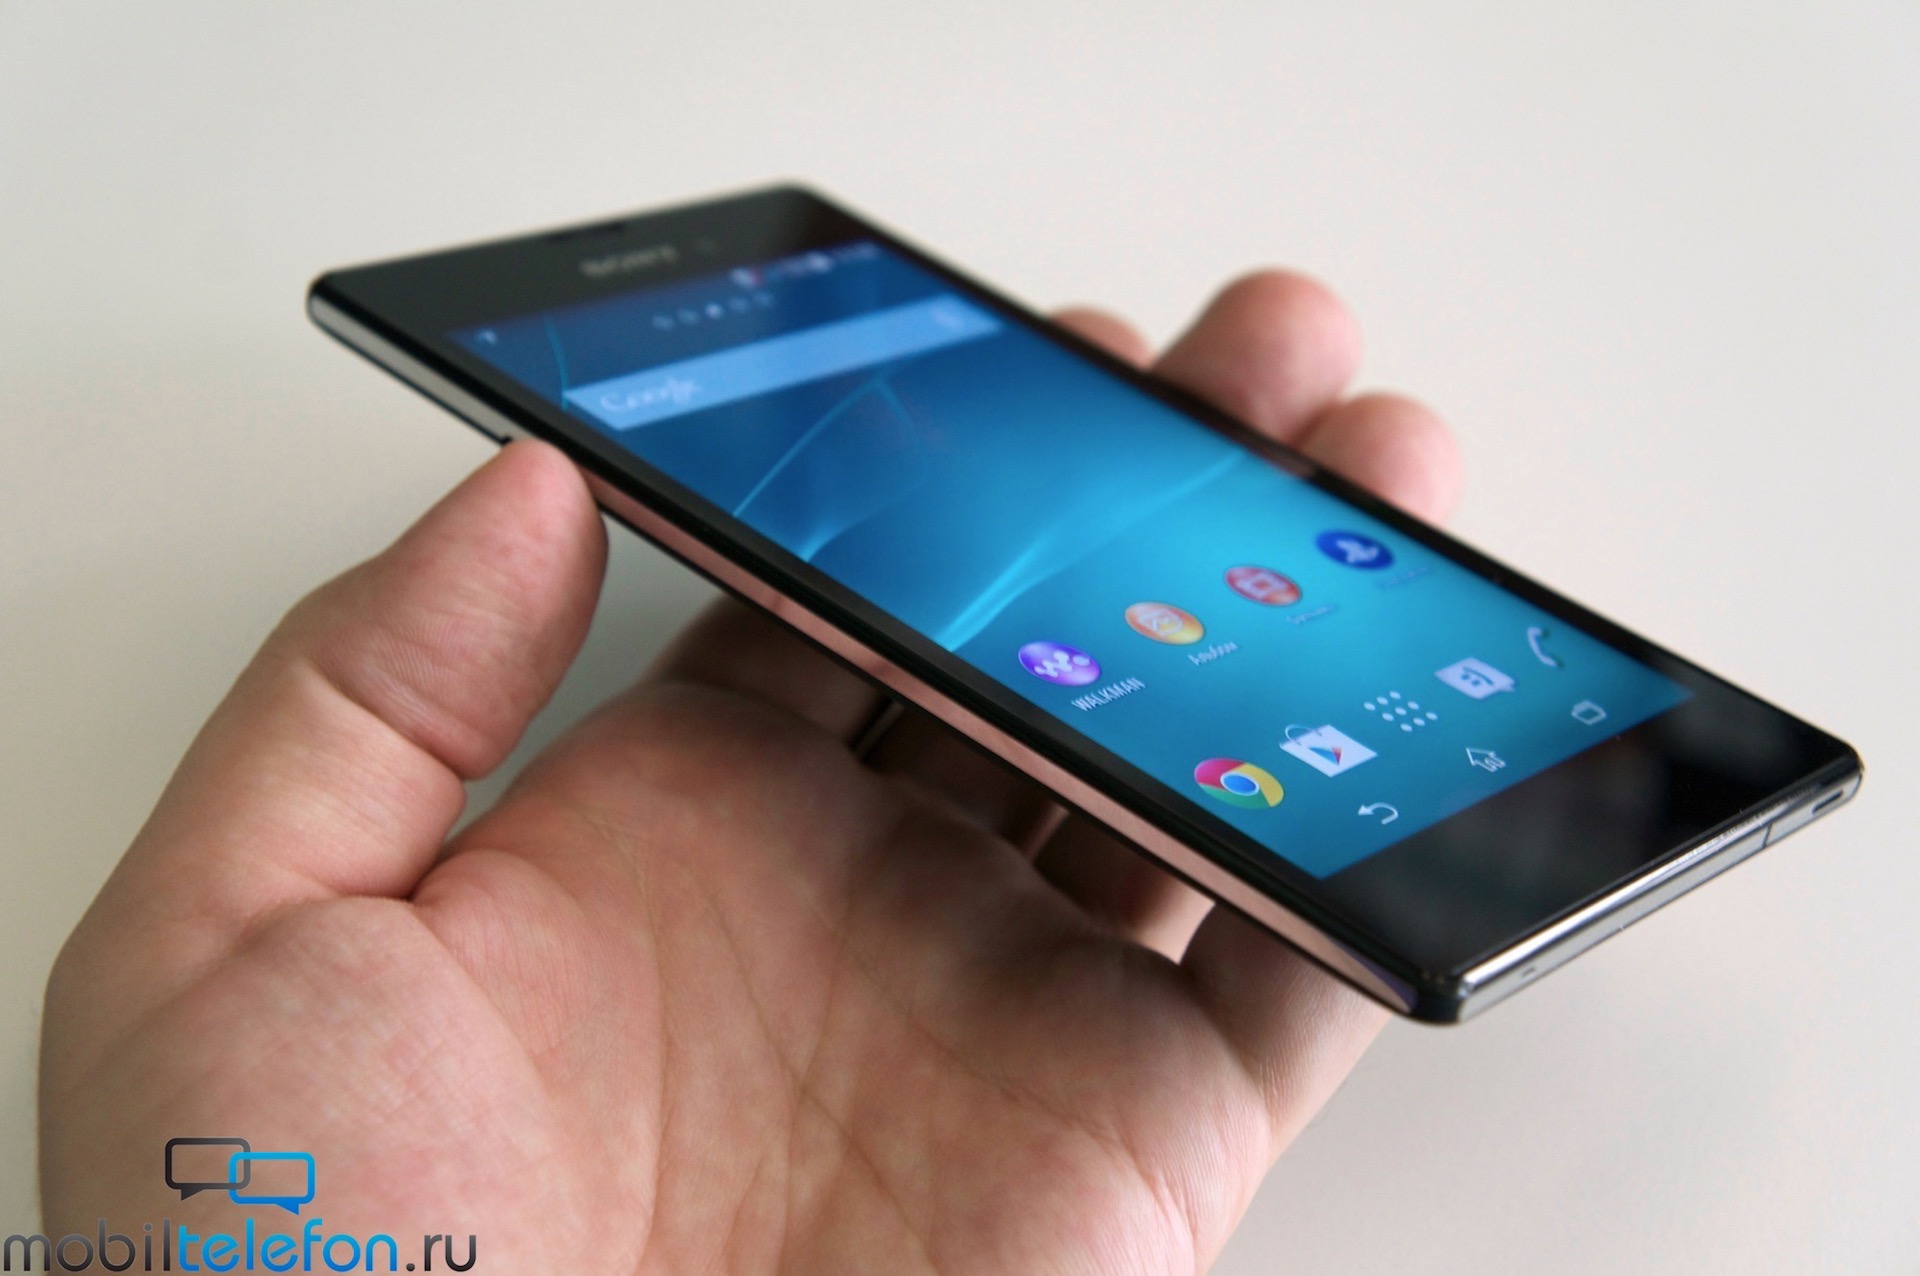smartphone: (305, 179, 1872, 1032)
